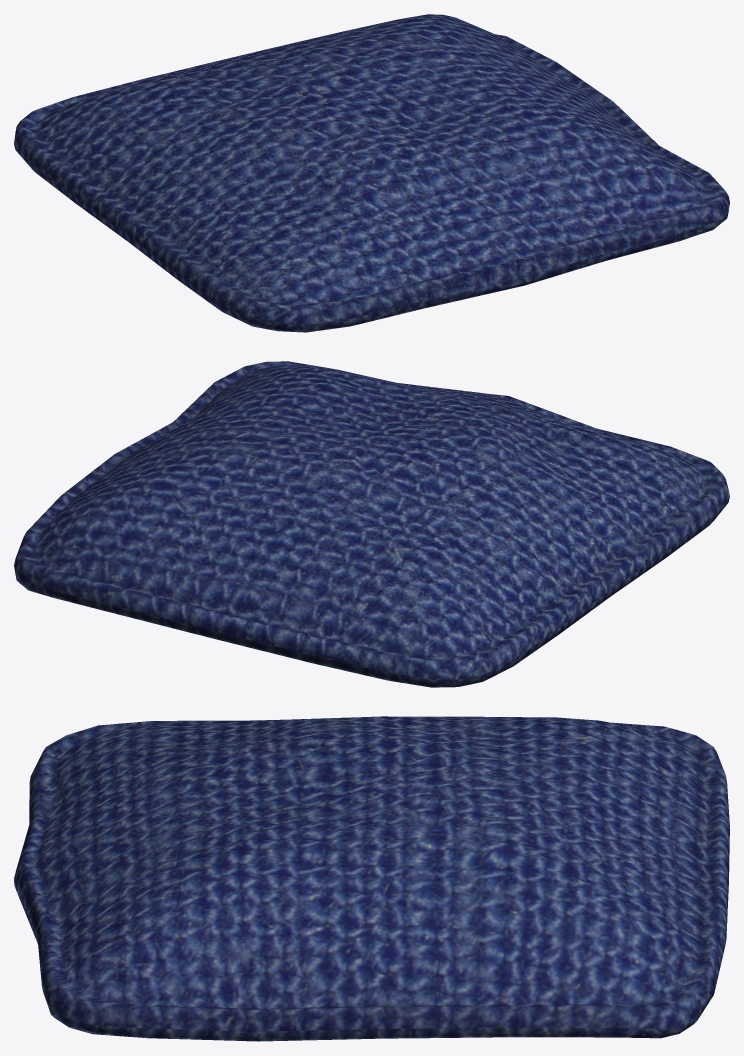
The model's file is Tyler_BeanbagblendBlue.obj.
3 views of the same model, one above another, from view 1: azimuth 30°, elevation 25°; view 2: azimuth 150°, elevation 25°; view 3: azimuth 270°, elevation 25° (orthographic). The views are drawn at different scales.
Visible parts, largest first — view 1: Circle; view 2: Circle; view 3: Circle.
Part boxes in pixels (left/top/right/bottom): Circle: left=14, top=14, right=729, bottom=332; Circle: left=14, top=361, right=729, bottom=687; Circle: left=14, top=716, right=729, bottom=1041.
Size of the model in its own units: 1.85 by 0.4804 by 1.9.
